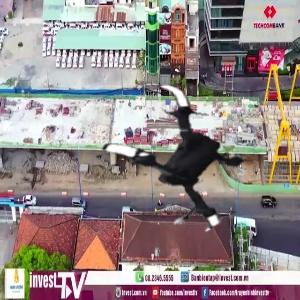drone: (101, 79, 272, 250)
